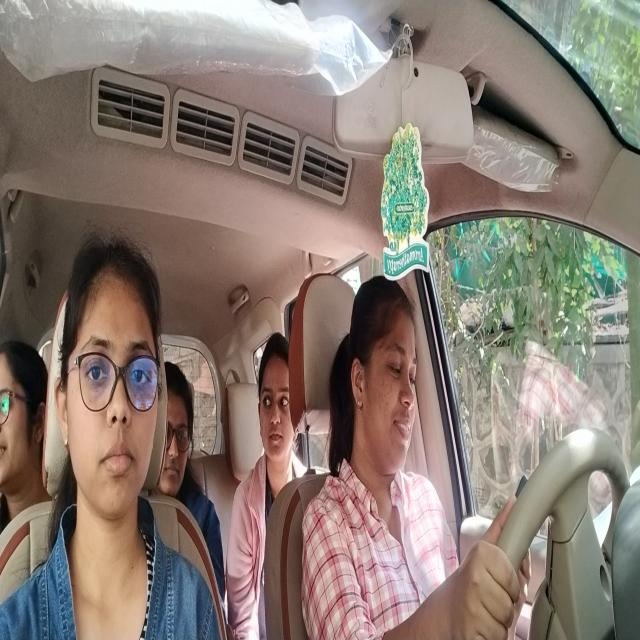drowsy: (337, 274, 423, 492)
person: (56, 237, 164, 529), (0, 332, 51, 490), (253, 330, 303, 475), (162, 355, 198, 506)
